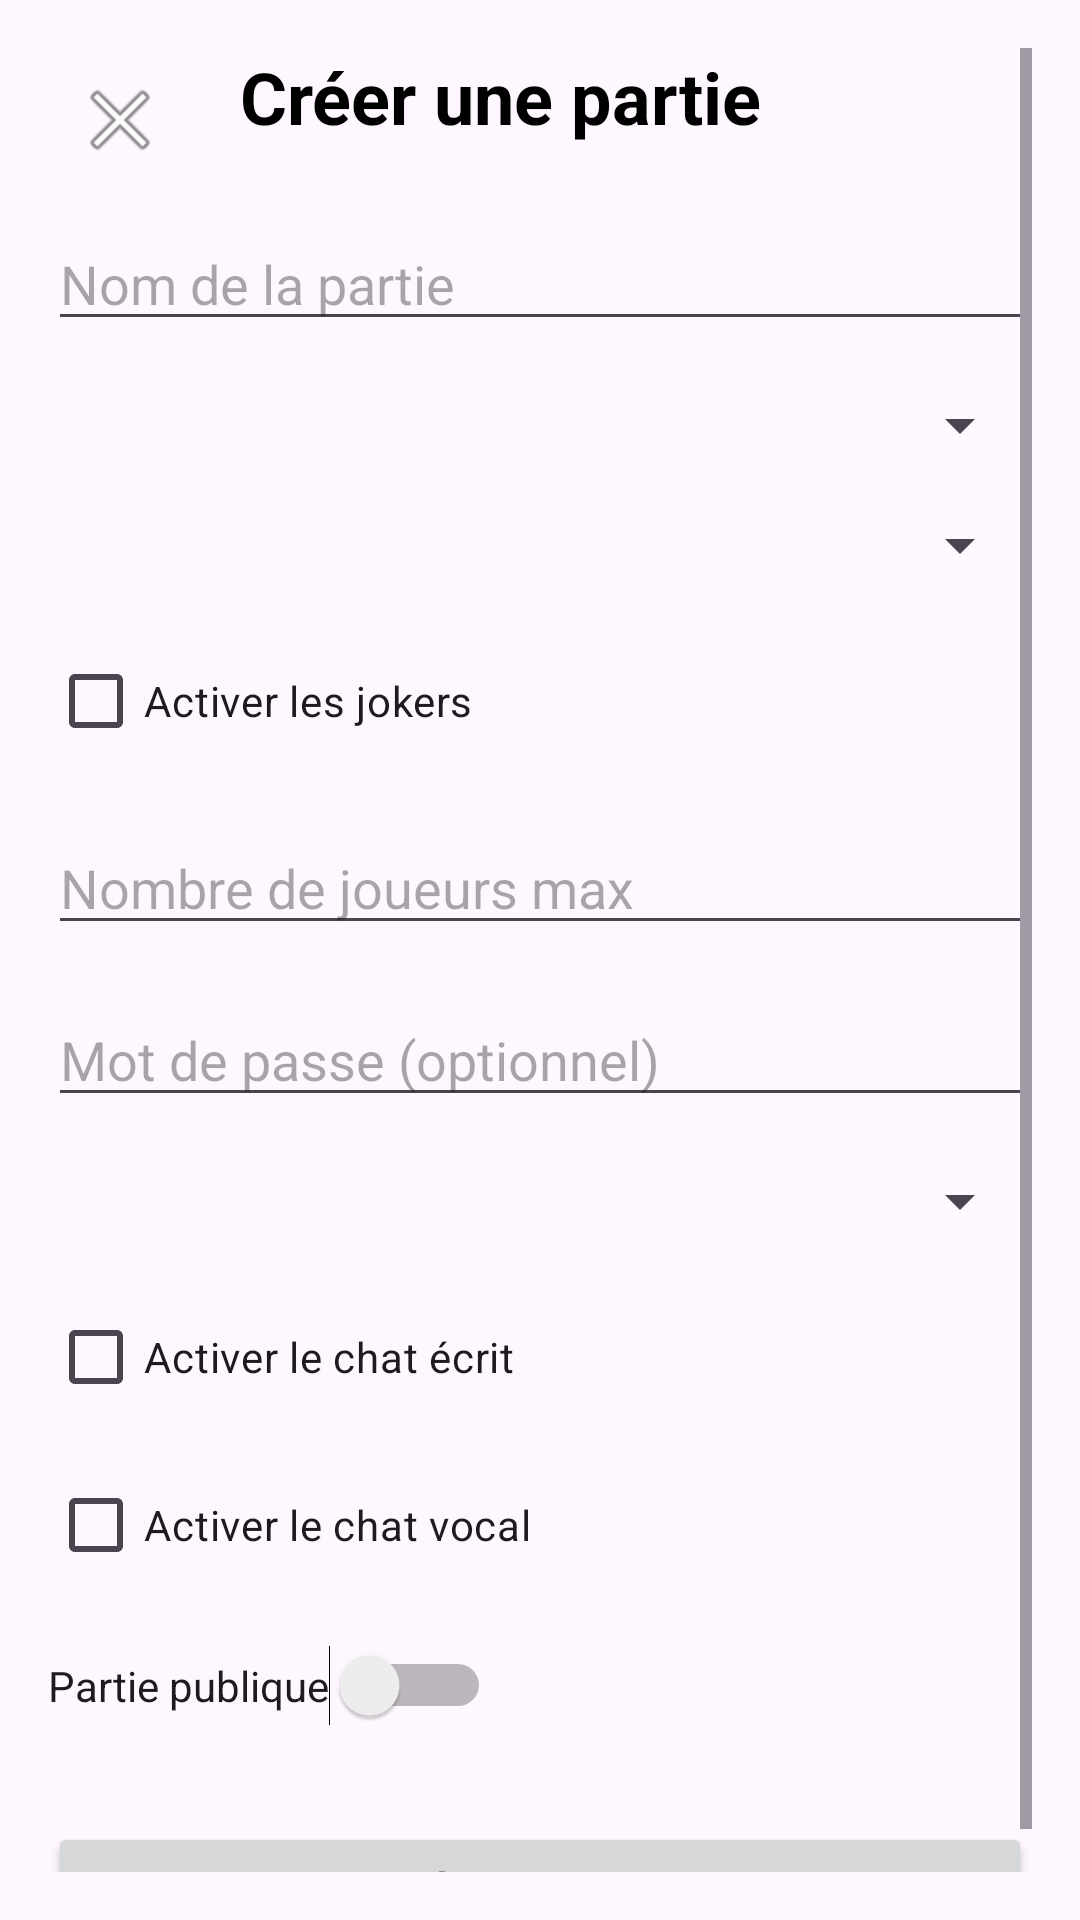

Screen size 1080px×1920px. Icon name, then its center in pixels as (x=x, y=y):
Retour: (x=120, y=120)
